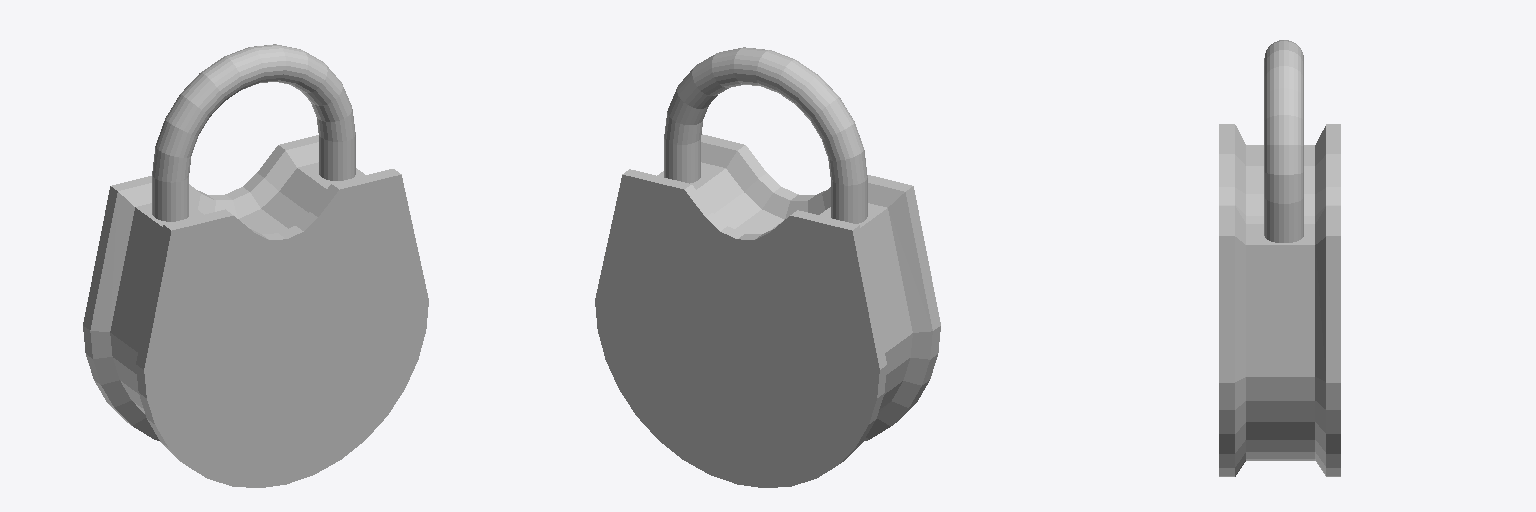
The model's file is lock.obj.
3 renders of one model, left to right at view 1: azimuth 30°, elevation 25°; view 2: azimuth 150°, elevation 25°; view 3: azimuth 270°, elevation 25°, orthographic.
Parts seen in each view (by area): view 1: lock1; view 2: lock1; view 3: lock1.
Part boxes in pixels (x1,y1,x2,y2): lock1: (83, 44, 428, 487); lock1: (595, 47, 940, 487); lock1: (1219, 40, 1340, 476).
Size of the model in its own units: 4.89 by 6.76 by 1.82.